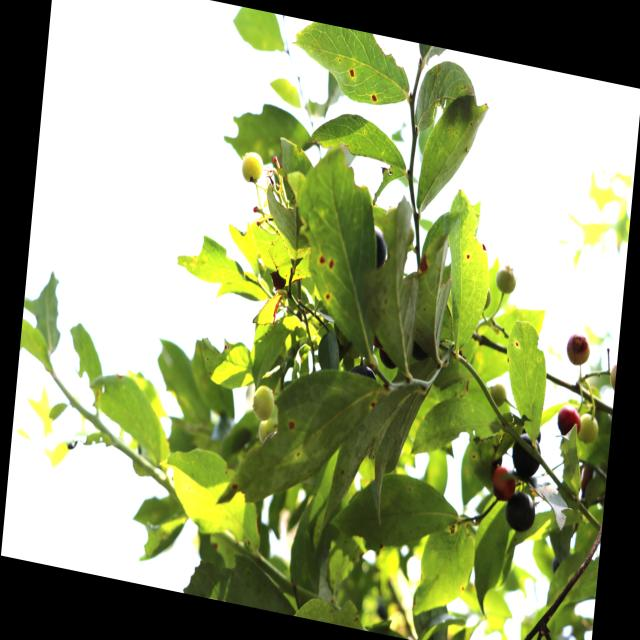blueberry: (510, 432, 542, 484), (503, 487, 538, 533), (368, 224, 388, 270), (348, 362, 378, 383), (377, 348, 399, 370), (410, 341, 429, 362)
blueberry-halfripe: (560, 329, 590, 371), (489, 462, 518, 501), (556, 404, 581, 438)
blueberry-unripe: (239, 147, 266, 188), (250, 381, 276, 421), (576, 410, 600, 444), (493, 264, 518, 294), (489, 379, 509, 406)
